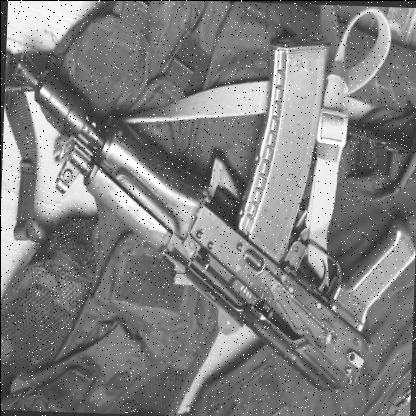rifle: (2, 30, 412, 409)
